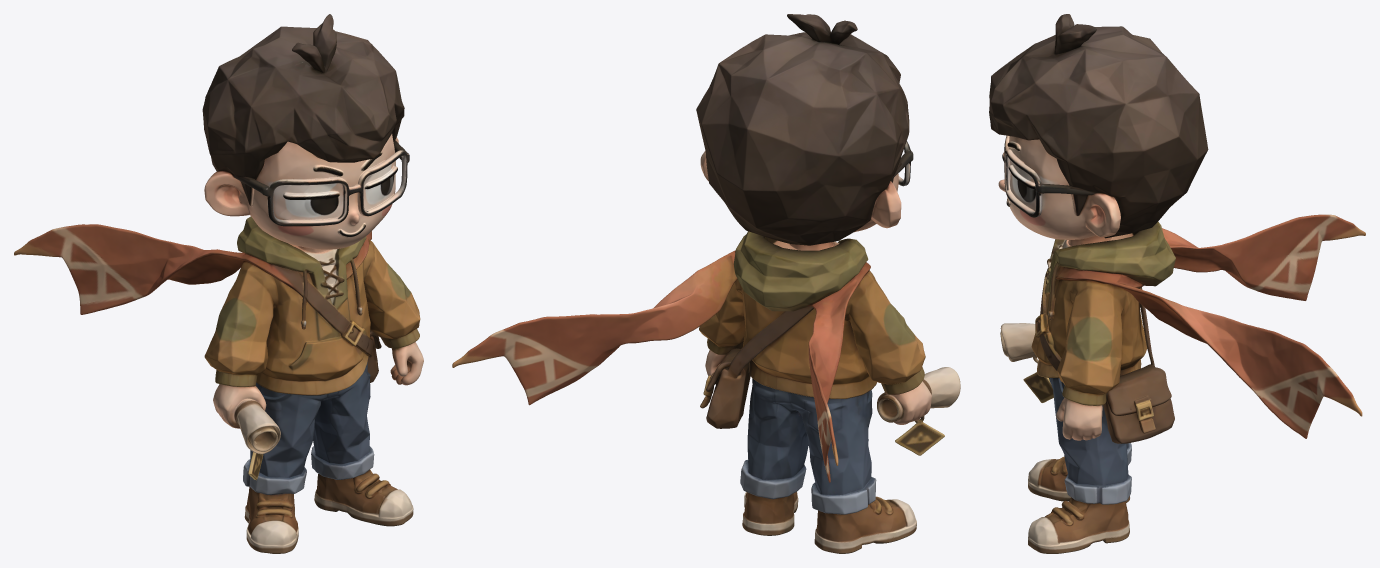
Rendered from chibi-raw.glb.
The picture shows the model from 3 angles, left to right: view 1: azimuth 30°, elevation 25°; view 2: azimuth 150°, elevation 25°; view 3: azimuth 270°, elevation 25°; orthographic projection. The views are drawn at different scales.
Visible parts, largest first — view 1: tripo_node_8d464594-a641-42c5-aa60-c02addd62c83; view 2: tripo_node_8d464594-a641-42c5-aa60-c02addd62c83; view 3: tripo_node_8d464594-a641-42c5-aa60-c02addd62c83.
Part boxes in pixels (x1,y1,x2,y2): tripo_node_8d464594-a641-42c5-aa60-c02addd62c83: (14,14,423,553); tripo_node_8d464594-a641-42c5-aa60-c02addd62c83: (452,14,960,553); tripo_node_8d464594-a641-42c5-aa60-c02addd62c83: (989,14,1365,553).
Bounding box in the file's own units: 0.7905 × 1 × 0.6845.
Materials: 1 (1 with a texture image).
